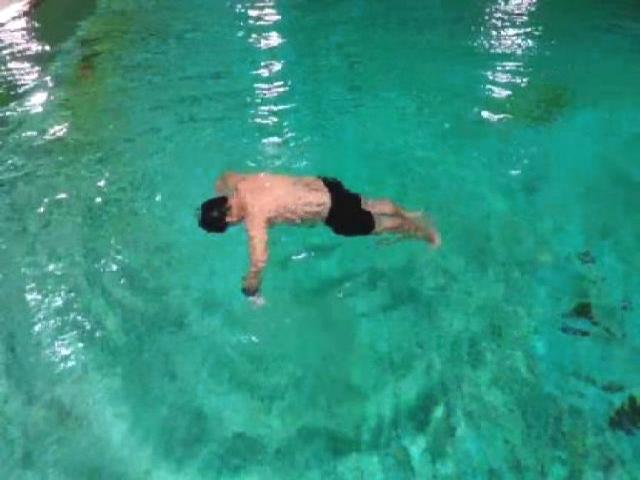drowning: (194, 162, 443, 302)
